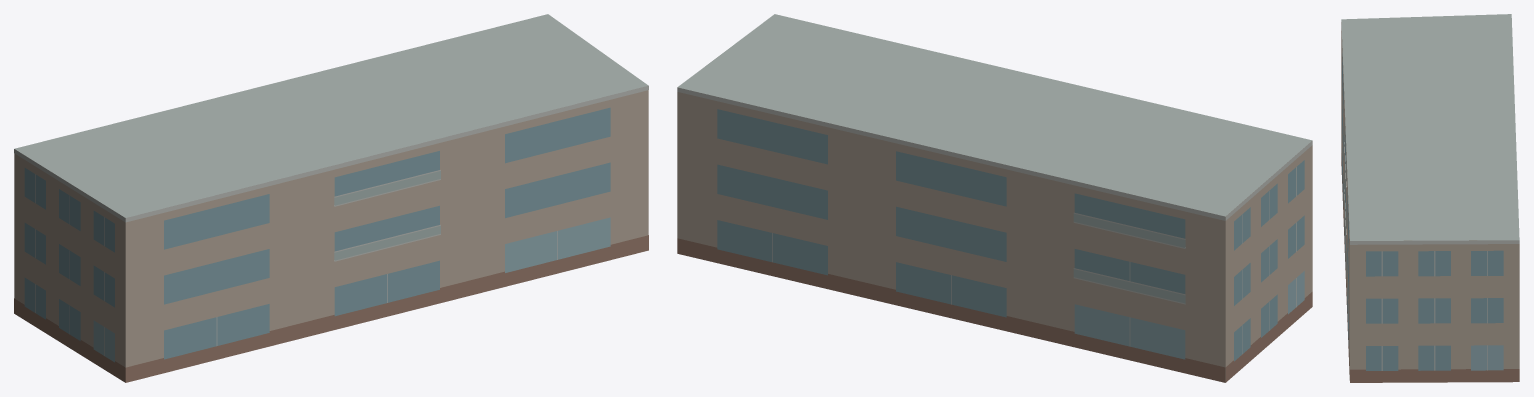
File: survey-upis-33003846.glb
The picture shows the model from 3 angles, left to right: view 1: azimuth 30°, elevation 25°; view 2: azimuth 150°, elevation 25°; view 3: azimuth 270°, elevation 25°; orthographic projection. The views are drawn at different scales.
Parts seen in each view (by area): view 1: survey-upis-33003846.tmp; view 2: survey-upis-33003846.tmp; view 3: survey-upis-33003846.tmp.
Part boxes in pixels (x1=…): survey-upis-33003846.tmp: x1=14, y1=14, x2=648, y2=382; survey-upis-33003846.tmp: x1=677, y1=14, x2=1312, y2=382; survey-upis-33003846.tmp: x1=1341, y1=14, x2=1519, y2=382.
Size of the model in its own units: 31.42 by 9.15 by 10.43.
